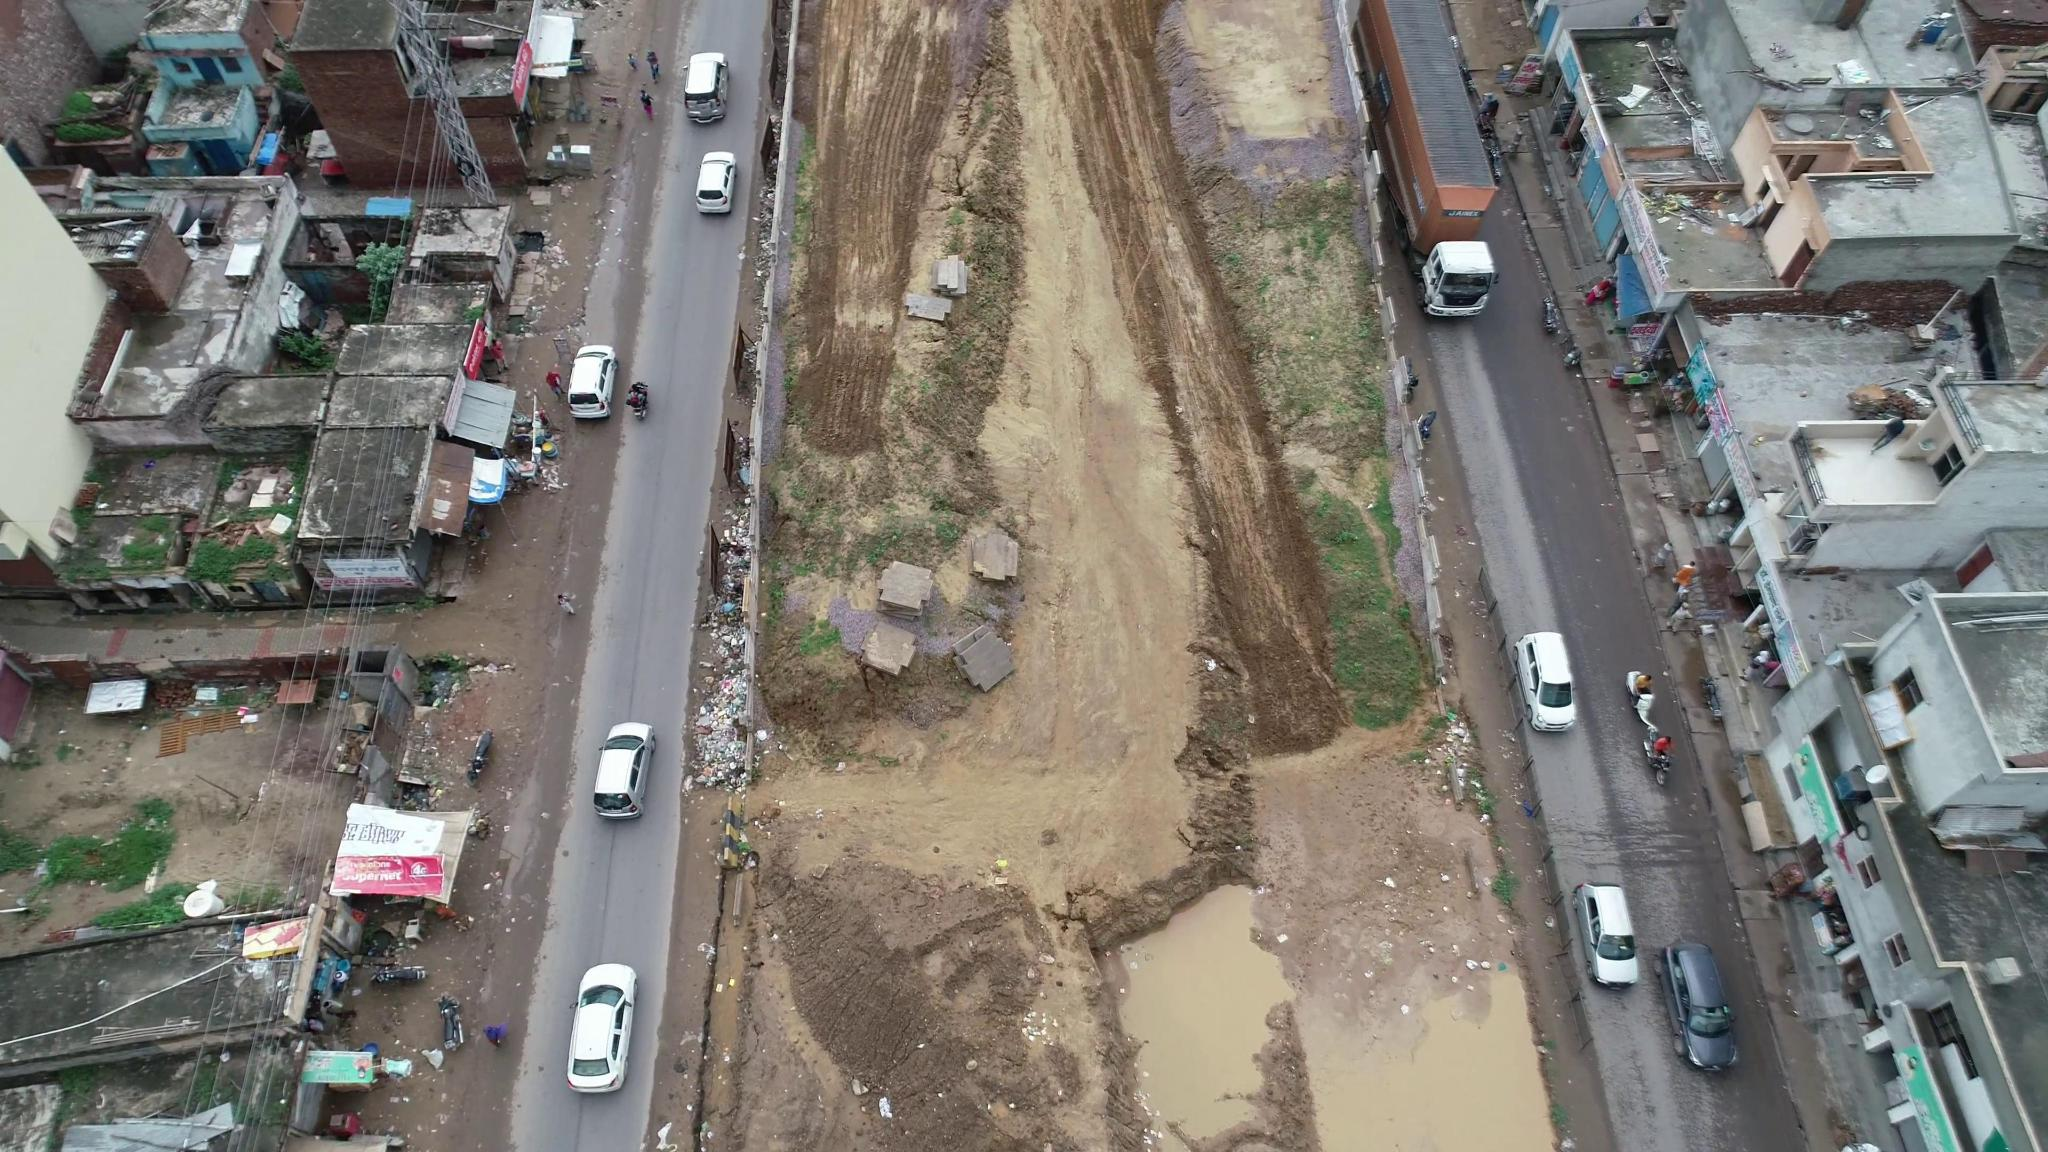Road_side_garbage: (686, 580, 760, 800)
